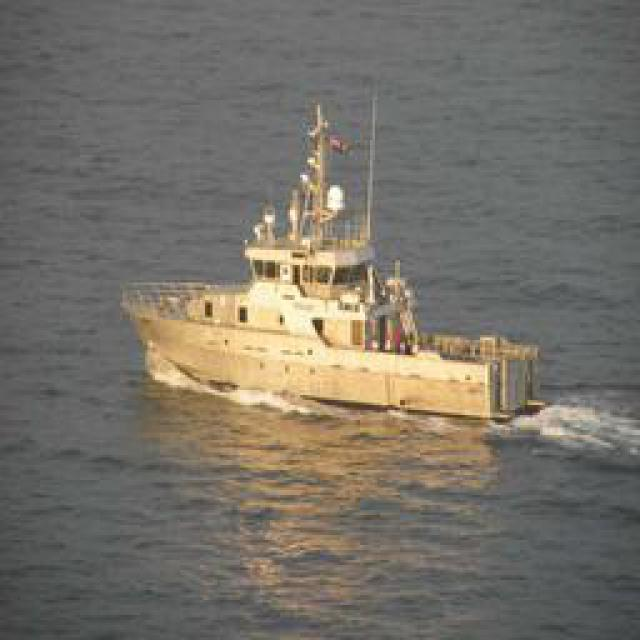Ship: (129, 98, 514, 416)
